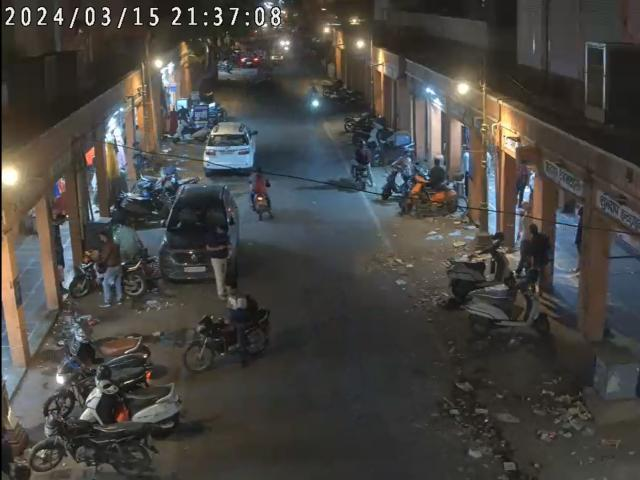car: (158, 183, 238, 282), (206, 122, 256, 176)
license_plate: (184, 265, 208, 273)
motorbike: (26, 415, 151, 480), (43, 351, 149, 412), (71, 256, 151, 304)
motorbike-rider: (184, 281, 272, 370), (352, 136, 376, 196), (248, 166, 272, 221)
no_helmet: (224, 280, 238, 297), (255, 166, 262, 173)
person: (205, 220, 232, 296), (525, 224, 552, 285)
scooty: (86, 376, 181, 434), (463, 272, 550, 334), (64, 321, 151, 365), (448, 237, 514, 294), (116, 186, 170, 228), (405, 176, 457, 214)
